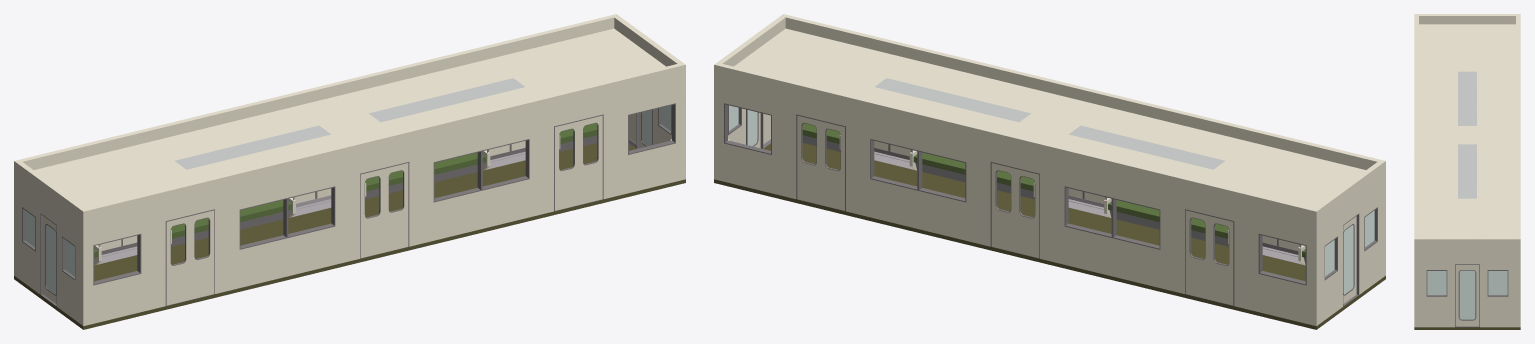
File: anime-subway-car-light.glb
The picture shows the model from 3 angles, left to right: view 1: azimuth 30°, elevation 25°; view 2: azimuth 150°, elevation 25°; view 3: azimuth 270°, elevation 25°; orthographic projection. The views are drawn at different scales.
Parts seen in each view (by area): view 1: Object_7; view 2: Object_7; view 3: Object_7.
Boxes of the visible parts, <box> form: Object_7: <box>14,14,685,329</box>; Object_7: <box>714,14,1385,329</box>; Object_7: <box>1414,14,1520,329</box>.
Bounding box in the file's own units: 17.06 × 3.2 × 3.4.
Materials: 2 (2 with a texture image).
